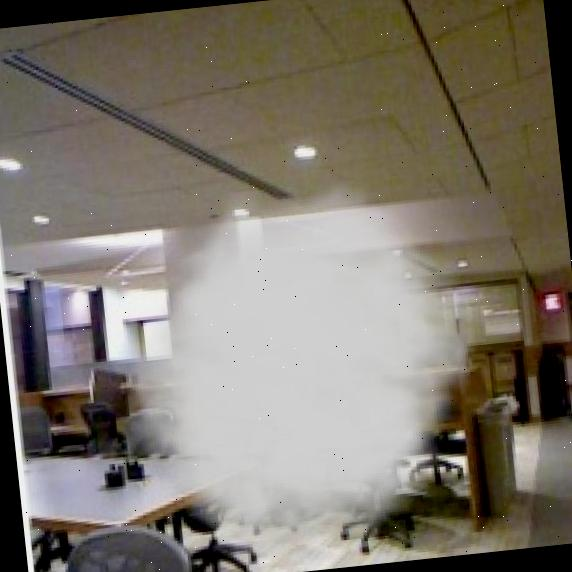smoke: (94, 168, 508, 572)
